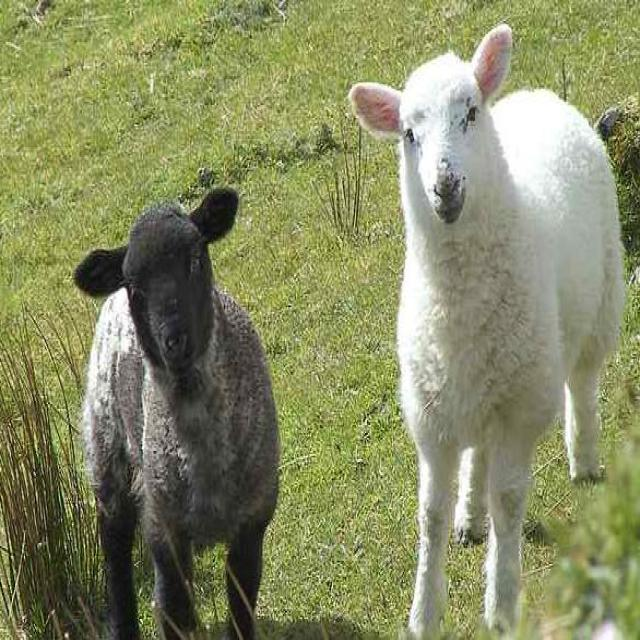Sheep: (347, 23, 620, 630), (67, 183, 280, 635)
